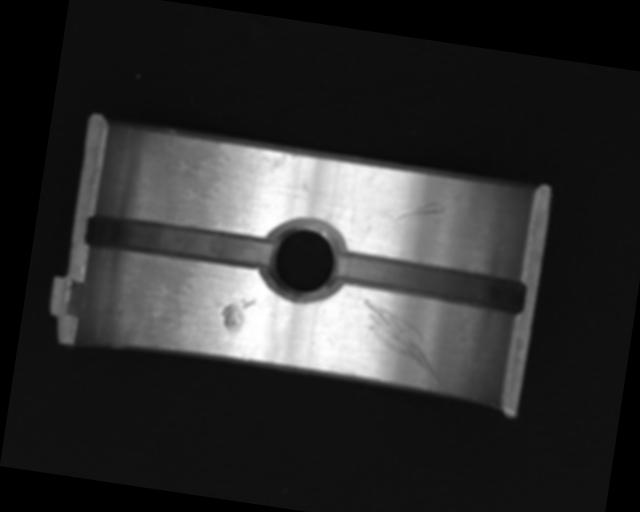bruise: (219, 293, 256, 333)
gap: (332, 250, 527, 315), (85, 211, 275, 271)
hole: (260, 215, 345, 303)
nick: (352, 299, 449, 385), (384, 193, 445, 231)
